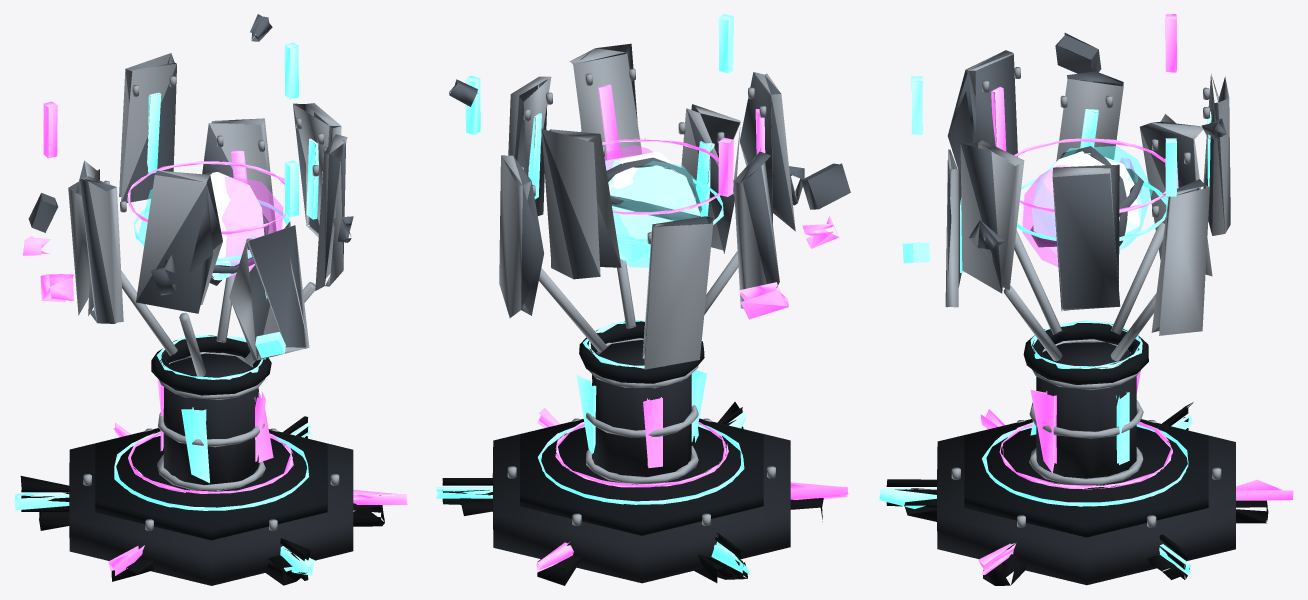
File: glitch.glb
3 renders of one model, left to right at view 1: azimuth 30°, elevation 25°; view 2: azimuth 150°, elevation 25°; view 3: azimuth 270°, elevation 25°, orthographic. The views are drawn at different scales.
Parts seen in each view (by area): view 1: base, base_tapa, placa_6, columna, placa_7, placa_3, placa_5, placa_2, placa_8, cuello_aro, eco_2, nucleo (+31 smaller); view 2: base, base_tapa, placa_3, placa_4, columna, placa_2, eco_1, nucleo, placa_8, placa_5, placa_6, placa_7 (+29 smaller); view 3: base, base_tapa, placa_1, columna, placa_8, placa_2, placa_6, placa_5, cuello_aro, placa_4, placa_3, nucleo (+32 smaller).
Boxes of the visible parts, x1,y1,x2,y2 form: base: [69, 428, 353, 585]; base_tapa: [95, 428, 327, 540]; placa_6: [136, 170, 222, 313]; columna: [163, 353, 259, 485]; placa_7: [229, 221, 309, 360]; placa_3: [119, 53, 176, 202]; placa_5: [79, 176, 123, 323]; placa_2: [202, 118, 276, 233]; placa_8: [315, 134, 347, 290]; cuello_aro: [151, 335, 271, 395]; eco_2: [222, 177, 283, 277]; nucleo: [210, 171, 264, 280]; base: [492, 418, 790, 583]; base_tapa: [520, 419, 763, 535]; placa_3: [541, 129, 621, 279]; placa_4: [642, 216, 713, 369]; columna: [592, 340, 691, 476]; placa_2: [499, 155, 544, 317]; eco_1: [610, 161, 707, 267]; nucleo: [605, 151, 700, 262]; placa_8: [570, 43, 641, 160]; placa_5: [733, 151, 779, 308]; placa_6: [739, 72, 795, 231]; placa_7: [681, 104, 740, 253]; base: [937, 419, 1235, 585]; base_tapa: [964, 419, 1208, 537]; placa_1: [1052, 164, 1120, 311]; columna: [1036, 341, 1136, 478]; placa_8: [960, 140, 1024, 293]; placa_2: [1151, 179, 1209, 335]; placa_6: [947, 50, 1017, 174]; placa_5: [1056, 71, 1123, 161]; cuello_aro: [1023, 323, 1148, 384]; placa_4: [1139, 114, 1212, 276]; placa_3: [1203, 74, 1230, 235]; nucleo: [1031, 151, 1142, 255].
Bounding box in the file's own units: 0.363 × 0.4474 × 0.3667.
